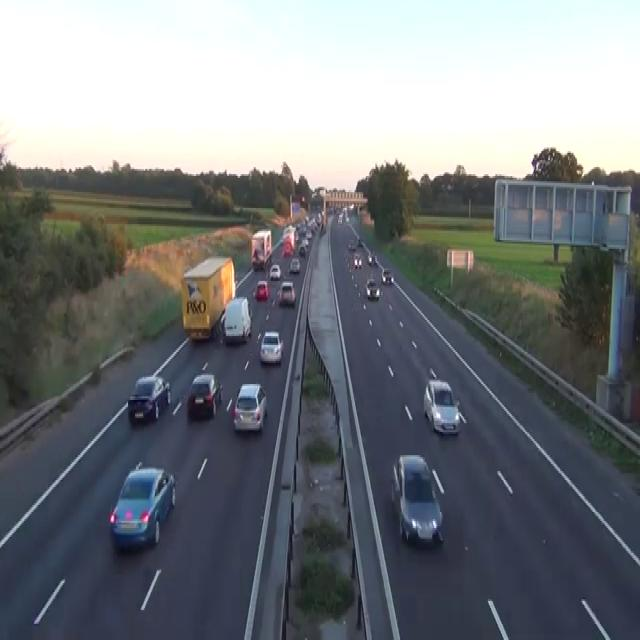Car: (109, 461, 176, 551), (390, 453, 443, 546), (423, 377, 460, 435), (127, 375, 171, 423), (232, 382, 267, 432), (186, 372, 222, 419), (259, 330, 283, 364), (278, 281, 295, 306), (253, 279, 269, 301), (365, 277, 379, 299), (251, 247, 264, 270), (381, 266, 393, 284), (269, 263, 281, 279), (288, 258, 300, 274), (283, 240, 293, 256), (353, 252, 362, 268), (219, 311, 225, 334), (367, 252, 376, 265), (298, 242, 306, 256), (348, 240, 356, 251), (320, 222, 326, 235), (446, 182, 454, 190), (316, 212, 321, 224), (356, 238, 363, 246), (367, 254, 372, 265), (348, 202, 354, 210), (305, 230, 311, 238), (311, 190, 317, 198), (337, 215, 342, 224), (280, 235, 284, 245), (343, 204, 347, 213), (345, 215, 349, 222)
Truck: (180, 255, 236, 342), (221, 295, 251, 343), (250, 230, 272, 270), (282, 224, 297, 254)
